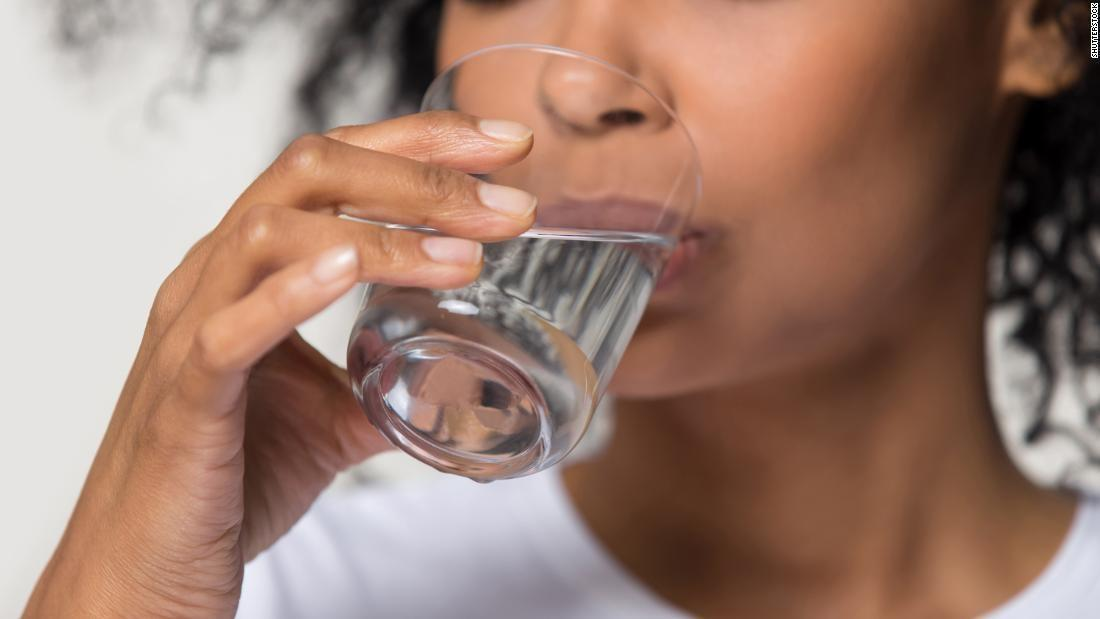glass-normal: (346, 46, 700, 482)
